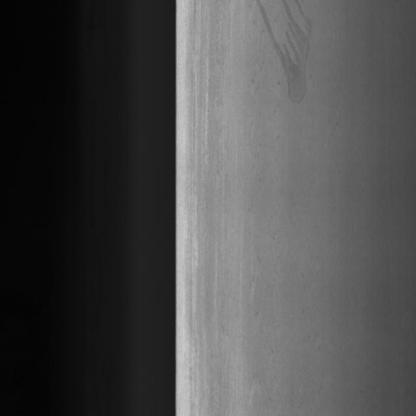water_spot: (249, 0, 326, 109)
